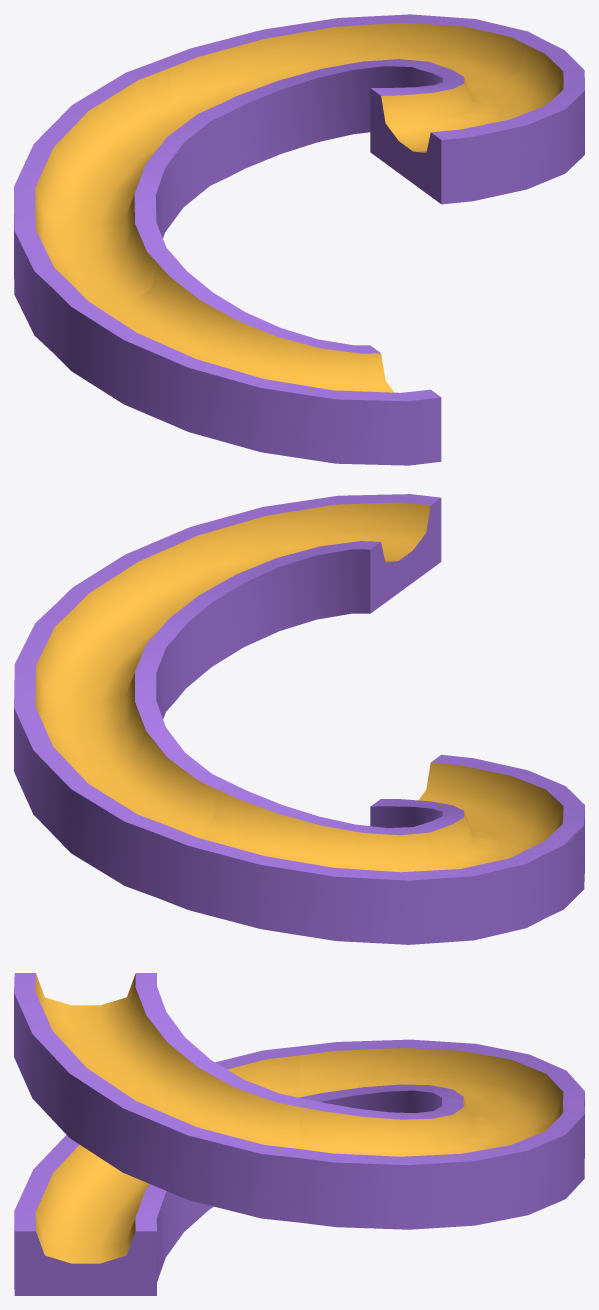
The model's file is helix-right-col.glb.
The picture shows the model from 3 angles, top to bottom: view 1: azimuth 30°, elevation 25°; view 2: azimuth 150°, elevation 25°; view 3: azimuth 270°, elevation 25°; orthographic projection.
Visible parts, largest first — view 1: helix-right-col; view 2: helix-right-col; view 3: helix-right-col.
Part boxes in pixels (box(x1,y1,x2,y2)): helix-right-col: box(14, 14, 584, 465); helix-right-col: box(14, 494, 584, 944); helix-right-col: box(14, 973, 584, 1295).
Bounding box in the file's own units: 4.01 × 2.5 × 4.01.
1 material, 1 textured.
